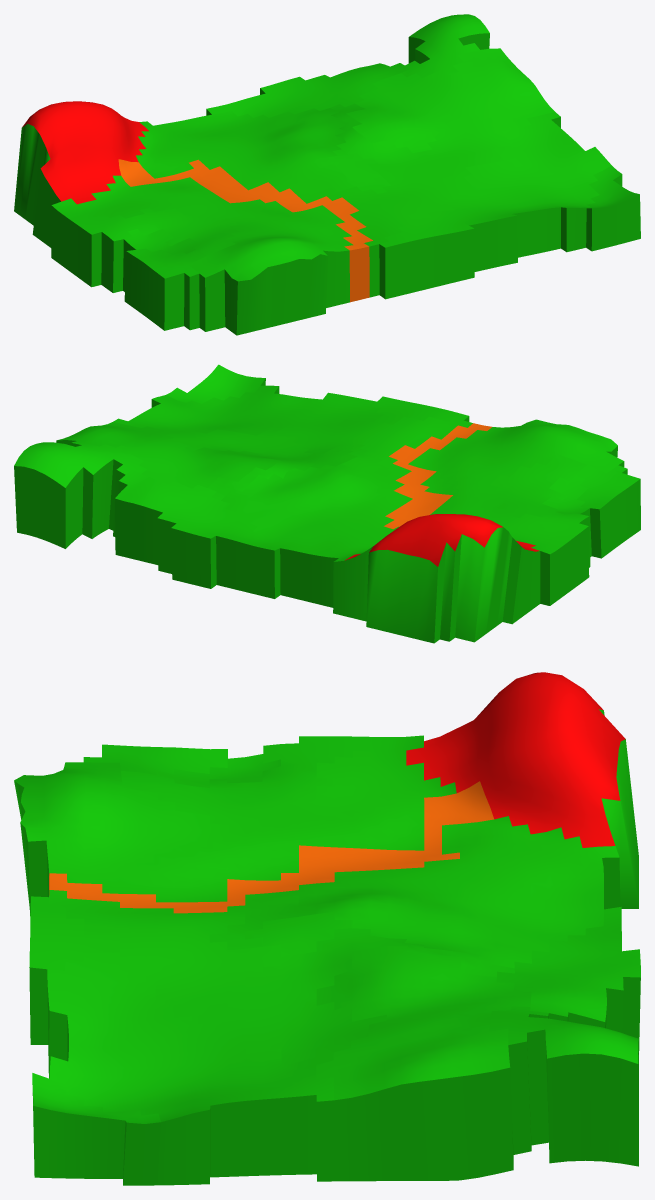
The model's file is ile hiver01.FBX.
The picture shows the model from 3 angles, top to bottom: view 1: azimuth 30°, elevation 25°; view 2: azimuth 150°, elevation 25°; view 3: azimuth 270°, elevation 25°; orthographic projection. The views are drawn at different scales.
Visible parts, largest first — view 1: ile hiver, Object005, Object003, Object006, Object001, Object007, Object008, Object004, Object010, Object002, Object009; view 2: ile hiver, Object007, Object008, Object005, Object003, Object001, Object006, Object004, Object002, Object010, Object009; view 3: ile hiver, Object005, Object008, Object006, Object007, Object004, Object003, Object001, Object009, Object010, Object002.
Boxes of the visible parts, left/top/right/bottom form: ile hiver: left=14, top=48, right=554, bottom=335; Object005: left=426, top=112, right=611, bottom=271; Object003: left=68, top=208, right=239, bottom=292; Object006: left=330, top=103, right=512, bottom=185; Object001: left=124, top=248, right=206, bottom=330; Object007: left=206, top=63, right=409, bottom=117; Object008: left=401, top=14, right=489, bottom=77; Object004: left=582, top=165, right=640, bottom=251; Object010: left=299, top=163, right=391, bottom=194; Object002: left=123, top=229, right=200, bottom=291; Object009: left=328, top=149, right=383, bottom=183; ile hiver: left=56, top=396, right=624, bottom=643; Object007: left=115, top=469, right=280, bottom=598; Object008: left=14, top=441, right=146, bottom=548; Object005: left=113, top=385, right=384, bottom=435; Object003: left=490, top=454, right=590, bottom=593; Object001: left=576, top=465, right=640, bottom=558; Object006: left=162, top=427, right=315, bottom=500; Object004: left=166, top=364, right=265, bottom=403; Object002: left=542, top=475, right=591, bottom=556; Object010: left=329, top=443, right=396, bottom=476; Object009: left=302, top=449, right=357, bottom=468; ile hiver: left=14, top=672, right=638, bottom=1181; Object005: left=47, top=952, right=334, bottom=1185; Object008: left=471, top=1006, right=638, bottom=1166; Object006: left=192, top=928, right=514, bottom=1065; Object007: left=496, top=906, right=640, bottom=1050; Object004: left=32, top=1073, right=160, bottom=1185; Object003: left=121, top=736, right=370, bottom=825; Object001: left=83, top=744, right=227, bottom=774; Object009: left=245, top=912, right=352, bottom=955; Object010: left=209, top=895, right=316, bottom=950; Object002: left=156, top=754, right=280, bottom=787.
Size of the model in its own units: 1909 by 435 by 1380.
